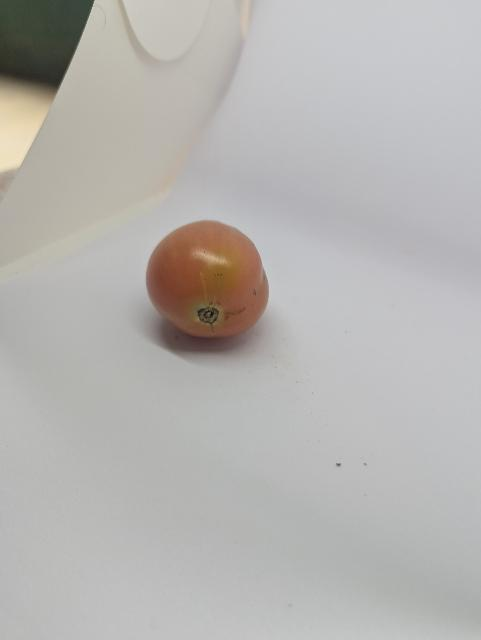turning: (140, 215, 278, 346)
